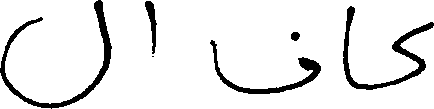ا: (341, 4, 354, 89), (143, 0, 156, 57)
ف: (207, 29, 320, 93)
ك: (391, 20, 432, 86)
ل: (0, 0, 110, 108)
